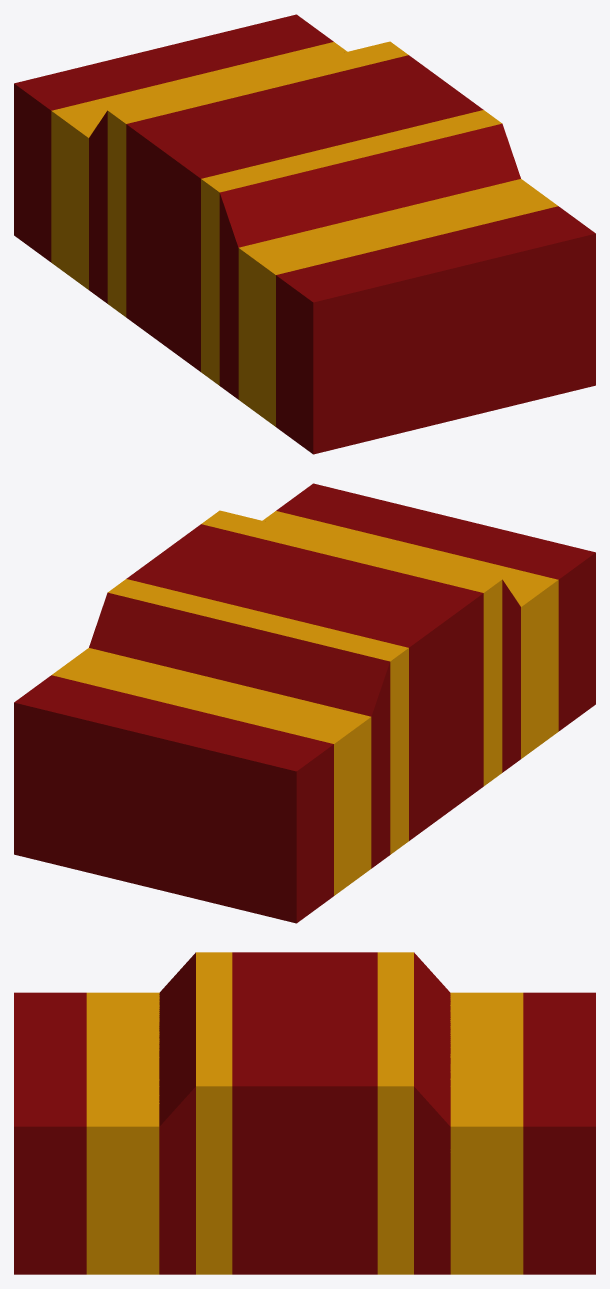
File: podio.fbx
3 renders of one model, top to bottom at view 1: azimuth 30°, elevation 25°; view 2: azimuth 150°, elevation 25°; view 3: azimuth 270°, elevation 25°, orthographic. The views are drawn at different scales.
Visible parts, largest first — view 1: Cube; view 2: Cube; view 3: Cube.
Boxes of the visible parts, x1=… form: Cube: x1=14, y1=14, x2=595, y2=454; Cube: x1=14, y1=483, x2=595, y2=923; Cube: x1=14, y1=952, x2=595, y2=1274.
Bounding box in the file's own units: 200 × 131 × 367.
